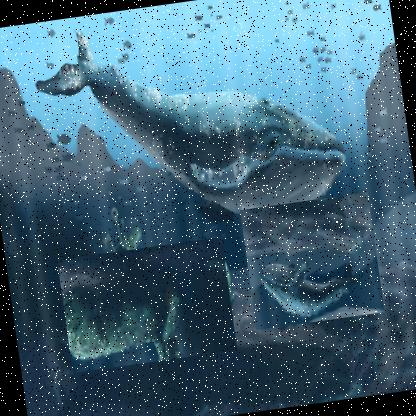blue_whale: (25, 17, 368, 242), (56, 236, 237, 374), (238, 192, 384, 330)
